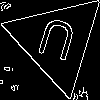U: (31, 16, 79, 71)
